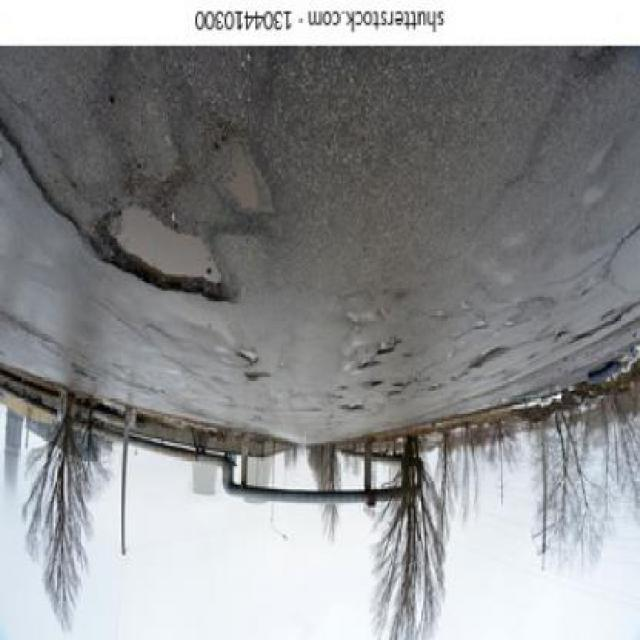pothole: (83, 194, 242, 316)
